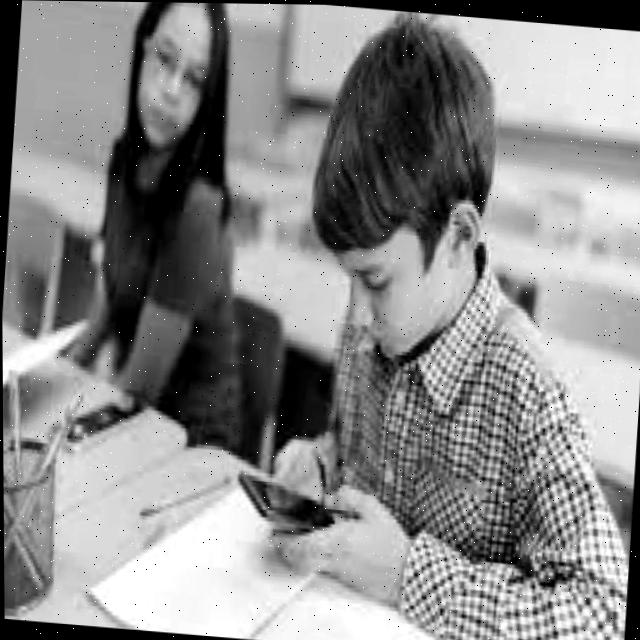phone: (230, 464, 337, 533)
